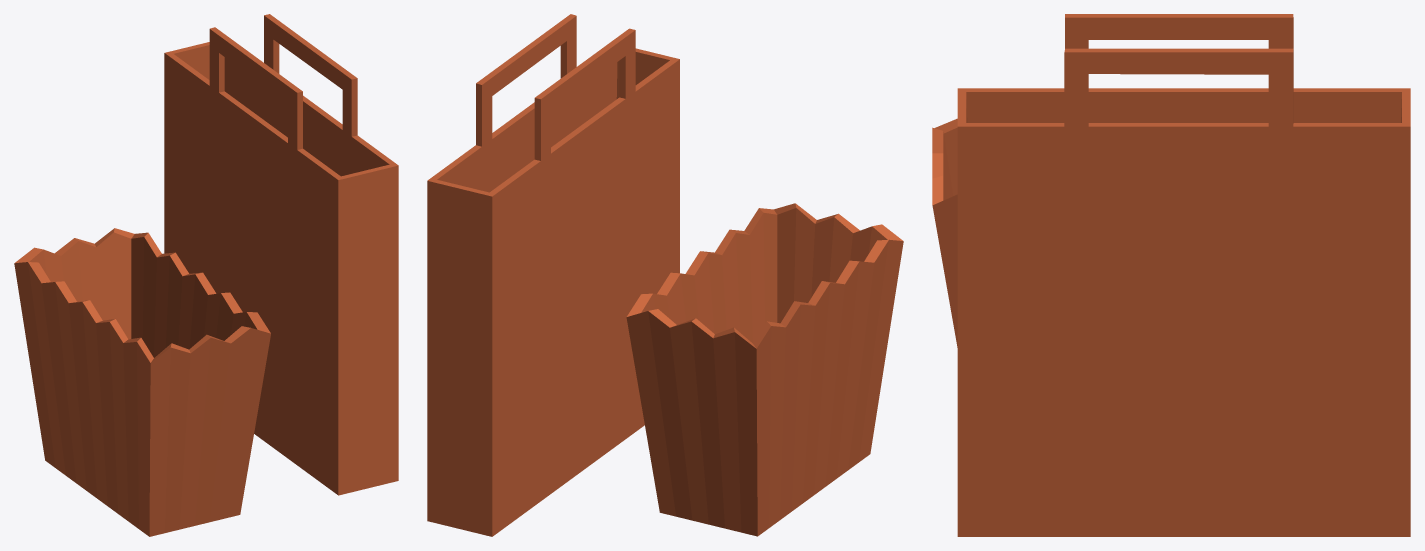
The model's file is Pack.fbx.
3 views of the same model, side by side, from view 1: azimuth 30°, elevation 25°; view 2: azimuth 150°, elevation 25°; view 3: azimuth 270°, elevation 25° (orthographic). The views are drawn at different scales.
Parts seen in each view (by area): view 1: Pack; view 2: Pack; view 3: Pack.
Part boxes in pixels (left/top/right/bottom): Pack: left=14, top=14, right=398, bottom=536; Pack: left=427, top=14, right=903, bottom=536; Pack: left=932, top=14, right=1410, bottom=536.
Bounding box in the file's own units: 0.3422 × 0.4224 × 0.4743.
